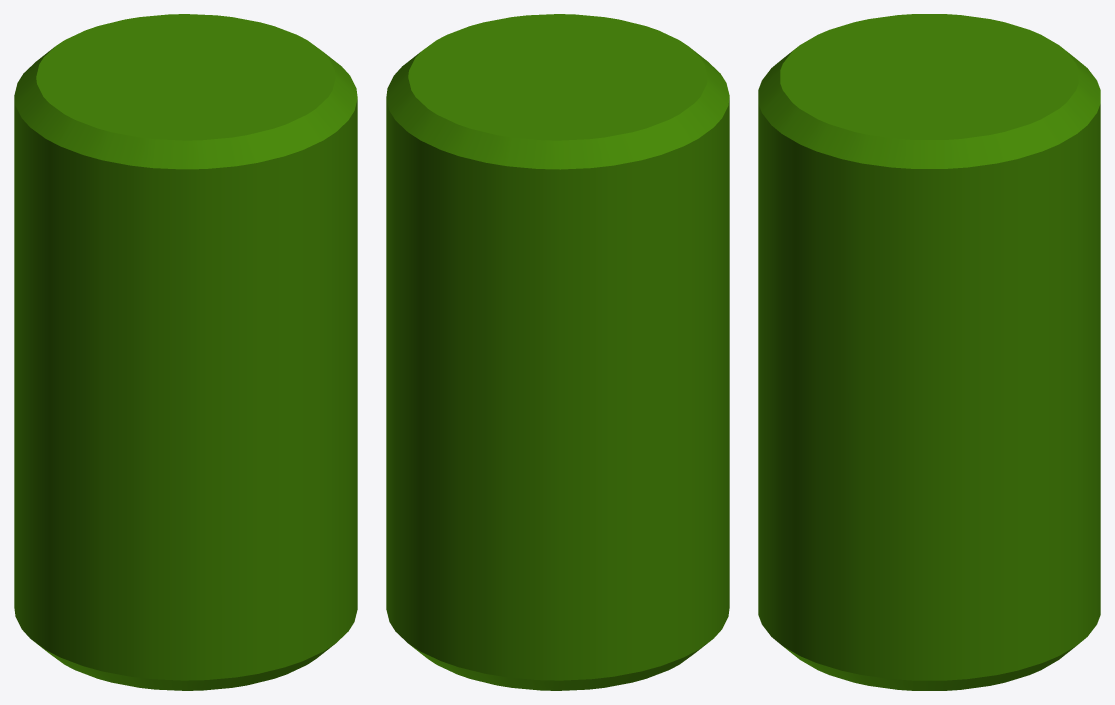
The model's file is SLIME cilinder V2.fbx.
The picture shows the model from 3 angles, left to right: view 1: azimuth 30°, elevation 25°; view 2: azimuth 150°, elevation 25°; view 3: azimuth 270°, elevation 25°; orthographic projection.
Parts seen in each view (by area): view 1: gewone_cilinder1; view 2: gewone_cilinder1; view 3: gewone_cilinder1.
Boxes of the visible parts, left/top/right/bottom form: gewone_cilinder1: left=14, top=14, right=357, bottom=690; gewone_cilinder1: left=386, top=14, right=729, bottom=690; gewone_cilinder1: left=758, top=14, right=1100, bottom=690.
Bounding box in the file's own units: 30.27 × 53.74 × 30.27.
